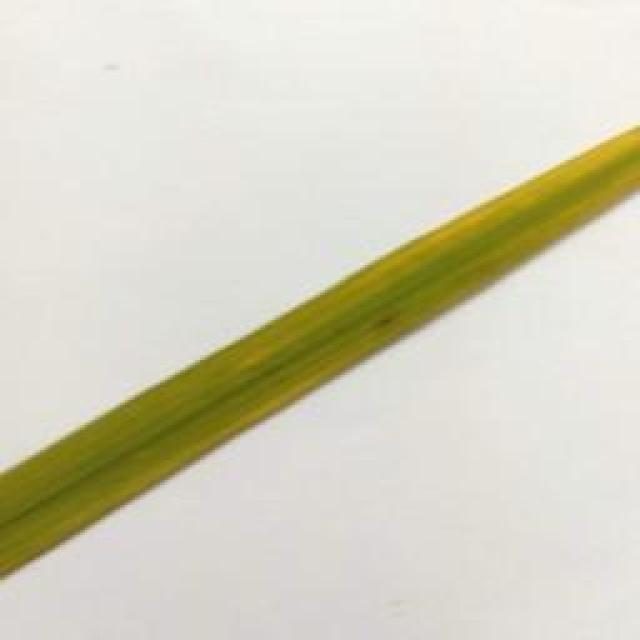Bacterial_Blight: (397, 62, 640, 357)
Brown_Spot: (374, 303, 396, 327)
